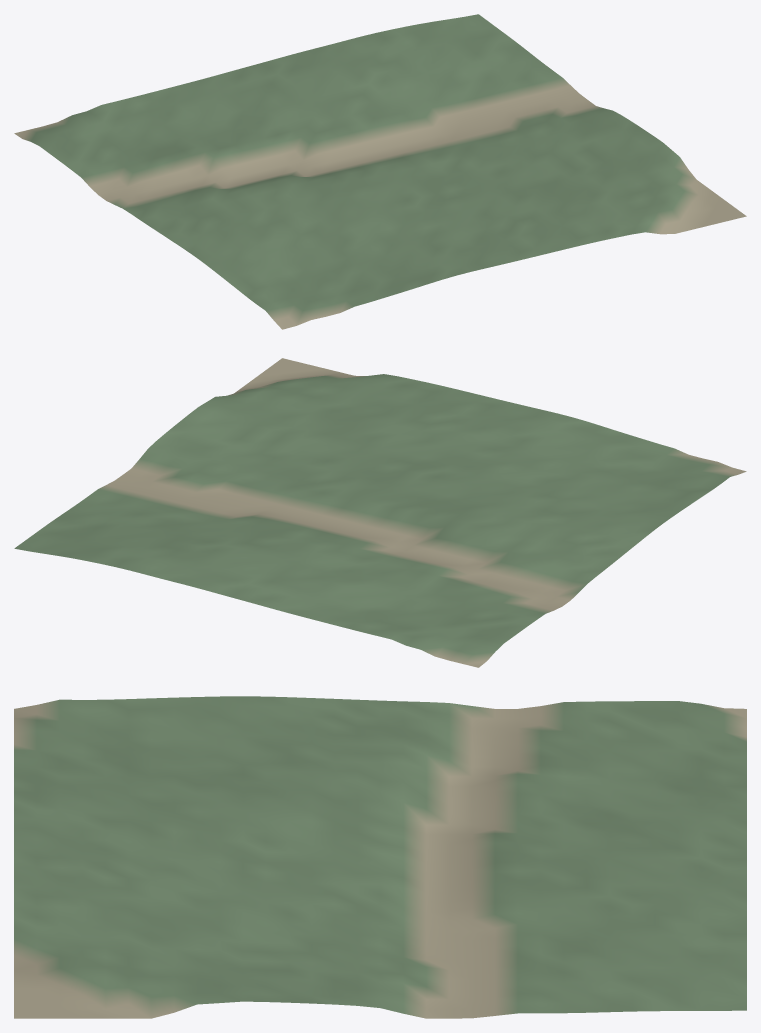
The picture shows the model from 3 angles, top to bottom: view 1: azimuth 30°, elevation 25°; view 2: azimuth 150°, elevation 25°; view 3: azimuth 270°, elevation 25°; orthographic projection. The views are drawn at different scales.
Visible parts, largest first — view 1: Terrain-col; view 2: Terrain-col; view 3: Terrain-col.
Boxes of the visible parts, left/top/right/bottom form: Terrain-col: left=14, top=14, right=746, bottom=329; Terrain-col: left=14, top=358, right=746, bottom=667; Terrain-col: left=14, top=696, right=746, bottom=1018.
Bounding box in the file's own units: 256 × 6.89 × 256.
